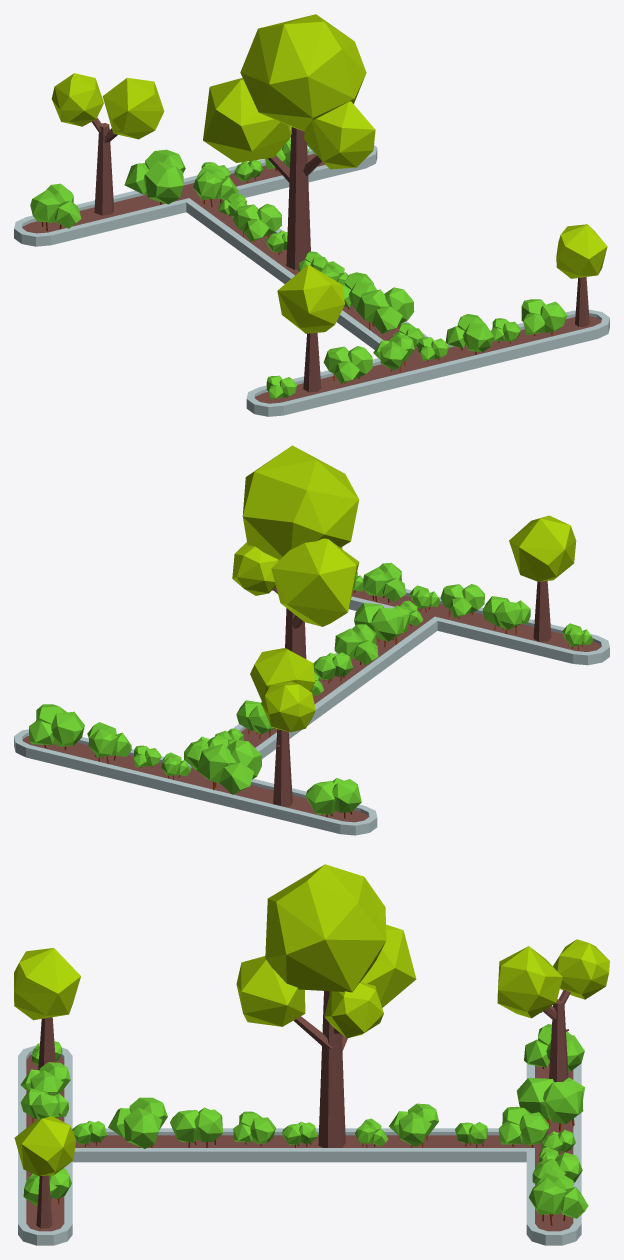
The model's file is ParkingBay2.fbx.
The picture shows the model from 3 angles, top to bottom: view 1: azimuth 30°, elevation 25°; view 2: azimuth 150°, elevation 25°; view 3: azimuth 270°, elevation 25°; orthographic projection. The views are drawn at different scales.
Visible parts, largest first — view 1: Cube.004, Icosphere.000, Cylinder.041, Icosphere.001, Cylinder.040, Icosphere, Cylinder.042, Cylinder.043, Icosphere.006, Icosphere.011, Icosphere.012, Icosphere.005 (+9 smaller); view 2: Cube.004, Icosphere.000, Icosphere.001, Cylinder.041, Cylinder.040, Icosphere.006, Icosphere.007, Icosphere.003, Icosphere.012, Icosphere.011, Icosphere.021, Icosphere.008 (+9 smaller); view 3: Cube.004, Icosphere.000, Cylinder.041, Cylinder.040, Cylinder.043, Icosphere, Cylinder.042, Icosphere.006, Icosphere.001, Icosphere.003, Icosphere.011, Icosphere.007 (+14 smaller).
Part boxes in pixels (bbox=[...]): Cube.004: bbox=[14, 145, 609, 416]; Icosphere.000: bbox=[240, 14, 366, 131]; Cylinder.041: bbox=[51, 73, 164, 215]; Icosphere.001: bbox=[203, 78, 290, 162]; Cylinder.040: bbox=[277, 264, 344, 392]; Icosphere: bbox=[304, 101, 375, 169]; Cylinder.042: bbox=[267, 127, 321, 269]; Cylinder.043: bbox=[556, 224, 607, 326]; Icosphere.006: bbox=[124, 149, 185, 204]; Icosphere.011: bbox=[356, 287, 414, 333]; Icosphere.012: bbox=[30, 183, 81, 231]; Icosphere.005: bbox=[323, 346, 372, 383]; Cube.004: bbox=[14, 578, 609, 835]; Icosphere.000: bbox=[242, 445, 359, 560]; Icosphere.001: bbox=[271, 538, 359, 626]; Cylinder.041: bbox=[250, 648, 315, 806]; Cylinder.040: bbox=[509, 515, 576, 641]; Icosphere.006: bbox=[197, 740, 261, 794]; Icosphere.007: bbox=[29, 704, 84, 750]; Icosphere.003: bbox=[232, 542, 278, 595]; Icosphere.012: bbox=[306, 778, 361, 818]; Icosphere.011: bbox=[354, 603, 409, 647]; Icosphere.021: bbox=[334, 624, 378, 664]; Icosphere.008: bbox=[363, 562, 406, 602]; Cube.004: bbox=[18, 1045, 581, 1245]; Icosphere.000: bbox=[265, 864, 386, 992]; Cylinder.041: bbox=[497, 939, 609, 1082]; Cylinder.040: bbox=[14, 948, 80, 1070]; Cylinder.043: bbox=[14, 1116, 75, 1228]; Icosphere: bbox=[236, 956, 305, 1026]; Cylinder.042: bbox=[293, 991, 347, 1147]; Icosphere.006: bbox=[516, 1077, 584, 1131]; Icosphere.001: bbox=[361, 924, 416, 1007]; Icosphere.003: bbox=[324, 982, 383, 1038]; Icosphere.011: bbox=[108, 1097, 167, 1148]; Icosphere.007: bbox=[529, 1169, 588, 1225].
Bounding box in the file's own units: 1644 × 1121 × 2173.
